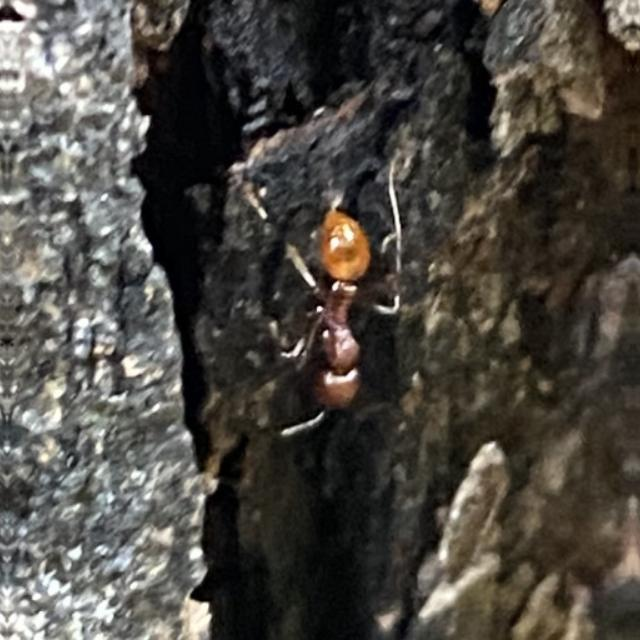Apheanogaster: (268, 180, 422, 440)
